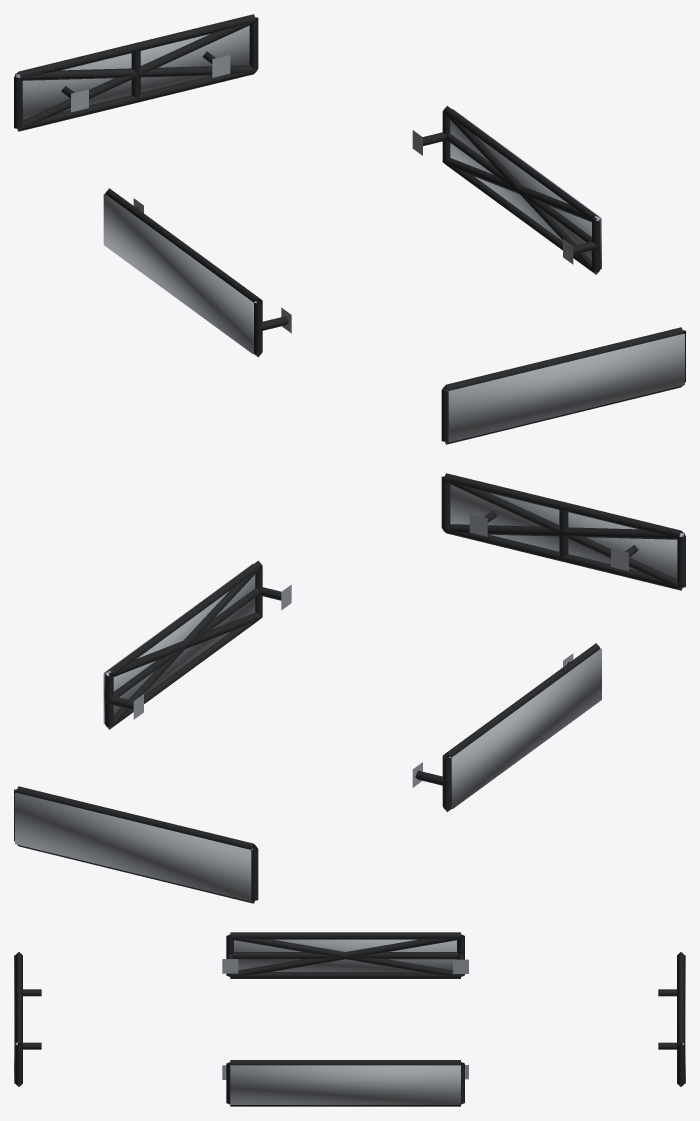
The model's file is vallon_vazante_protecao.glb.
The picture shows the model from 3 angles, top to bottom: view 1: azimuth 30°, elevation 25°; view 2: azimuth 150°, elevation 25°; view 3: azimuth 270°, elevation 25°; orthographic projection. The views are drawn at different scales.
Parts seen in each view (by area): view 1: Protection_front_Level3_Details, Protection_left_Level3_Details, Protection_rear_Level1_Details, Protection_rear_Level3_Details, Protection_right_Level1_Details, Protection_rear_Level2_Details, Protection_right_Level2_Details, Protection_right_Level3_Details, Protection_front_Level1_Details, Protection_left_Level1_Details; view 2: Protection_rear_Level3_Details, Protection_left_Level3_Details, Protection_front_Level1_Details, Protection_front_Level3_Details, Protection_right_Level1_Details, Protection_front_Level2_Details, Protection_right_Level2_Details, Protection_right_Level3_Details, Protection_rear_Level1_Details, Protection_left_Level1_Details; view 3: Protection_right_Level3_Details, Protection_left_Level2_Details, Protection_left_Level1_Details, Protection_left_Level3_Details, Protection_right_Level1_Details, Protection_rear_Level1_Details, Protection_front_Level1_Details.
Boxes of the visible parts, x1=… form: Protection_front_Level3_Details: x1=447, y1=333, x2=684, y2=442; Protection_left_Level3_Details: x1=103, y1=194, x2=256, y2=353; Protection_rear_Level1_Details: x1=14, y1=14, x2=258, y2=131; Protection_rear_Level3_Details: x1=15, y1=25, x2=249, y2=120; Protection_right_Level1_Details: x1=412, y1=106, x2=600, y2=274; Protection_rear_Level2_Details: x1=16, y1=21, x2=255, y2=130; Protection_right_Level2_Details: x1=443, y1=112, x2=599, y2=274; Protection_right_Level3_Details: x1=450, y1=109, x2=601, y2=268; Protection_front_Level1_Details: x1=441, y1=327, x2=685, y2=444; Protection_left_Level1_Details: x1=105, y1=188, x2=291, y2=357; Protection_rear_Level3_Details: x1=15, y1=792, x2=252, y2=901; Protection_left_Level3_Details: x1=448, y1=648, x2=601, y2=808; Protection_front_Level1_Details: x1=441, y1=473, x2=685, y2=590; Protection_front_Level3_Details: x1=450, y1=484, x2=684, y2=579; Protection_right_Level1_Details: x1=105, y1=560, x2=291, y2=729; Protection_front_Level2_Details: x1=444, y1=480, x2=683, y2=589; Protection_right_Level2_Details: x1=106, y1=566, x2=262, y2=728; Protection_right_Level3_Details: x1=103, y1=564, x2=255, y2=723; Protection_rear_Level1_Details: x1=14, y1=786, x2=258, y2=903; Protection_left_Level1_Details: x1=412, y1=643, x2=600, y2=811; Protection_right_Level3_Details: x1=230, y1=1065, x2=460, y2=1104; Protection_left_Level2_Details: x1=230, y1=935, x2=461, y2=976; Protection_left_Level1_Details: x1=222, y1=932, x2=468, y2=978; Protection_left_Level3_Details: x1=234, y1=939, x2=456, y2=971; Protection_right_Level1_Details: x1=222, y1=1060, x2=468, y2=1106; Protection_rear_Level1_Details: x1=658, y1=952, x2=684, y2=1086; Protection_front_Level1_Details: x1=15, y1=952, x2=41, y2=1086.
Size of the model in its own units: 2.15 by 0.354 by 4.63.
1 material, 1 textured.
